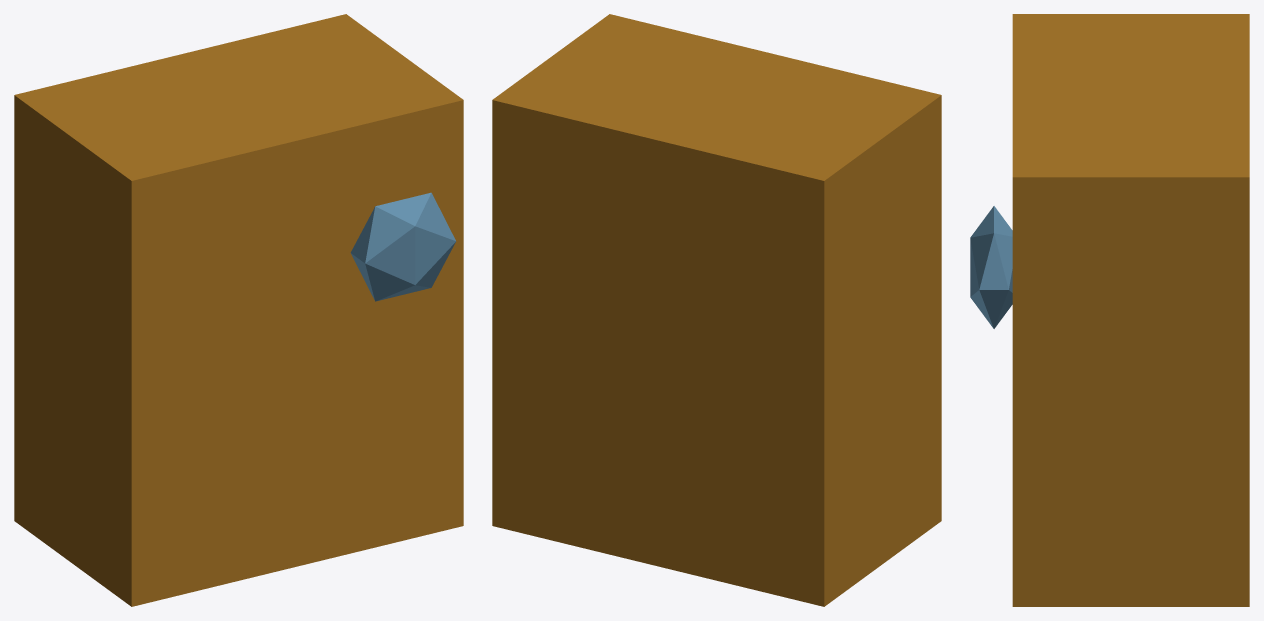
Rendered from body.glb.
3 renders of one model, left to right at view 1: azimuth 30°, elevation 25°; view 2: azimuth 150°, elevation 25°; view 3: azimuth 270°, elevation 25°, orthographic.
Visible parts, largest first — view 1: chest, chest_emblem; view 2: chest; view 3: chest, chest_emblem.
Part boxes in pixels (bbox=[...]): chest: bbox=[14, 14, 463, 606]; chest_emblem: bbox=[350, 192, 456, 301]; chest: bbox=[492, 14, 941, 606]; chest: bbox=[1012, 14, 1249, 606]; chest_emblem: bbox=[970, 206, 1012, 328].
Bounding box in the file's own units: 0.62 × 0.76 × 0.4483.
